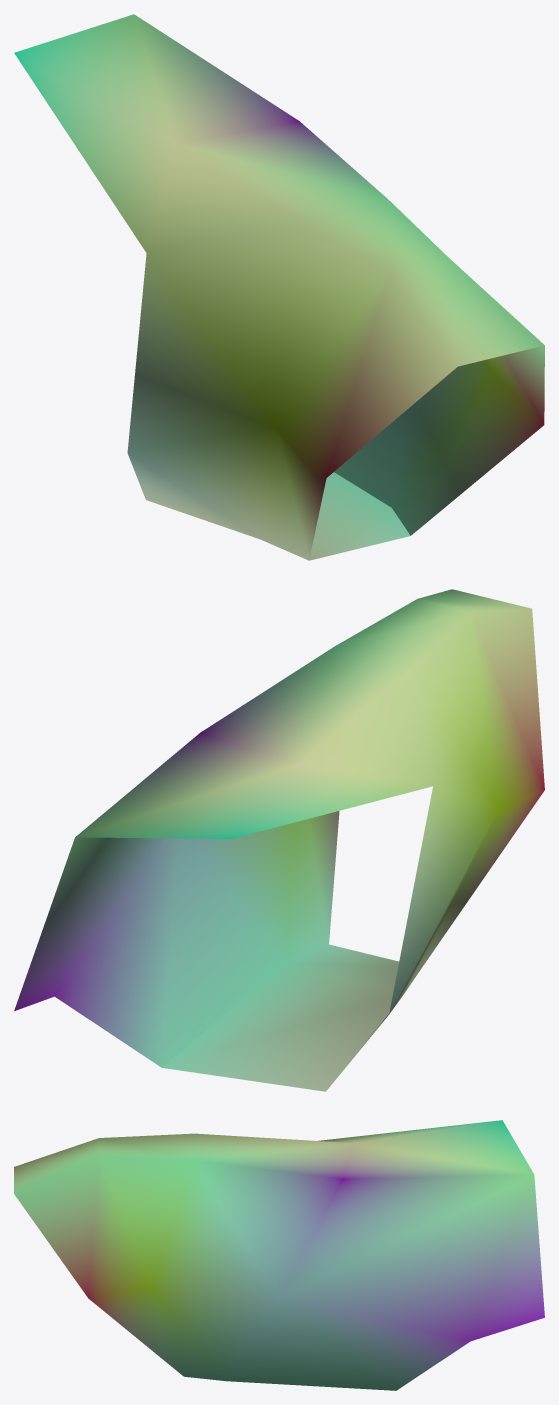
3 renders of one model, top to bottom at view 1: azimuth 30°, elevation 25°; view 2: azimuth 150°, elevation 25°; view 3: azimuth 270°, elevation 25°, orthographic. The views are drawn at different scales.
Parts seen in each view (by area): view 1: part; view 2: part; view 3: part.
Part boxes in pixels (x1,y1,x2,y2): part: (14, 14, 544, 560); part: (14, 589, 544, 1091); part: (14, 1120, 544, 1390).
Size of the model in its own units: 19 by 24 by 50.
